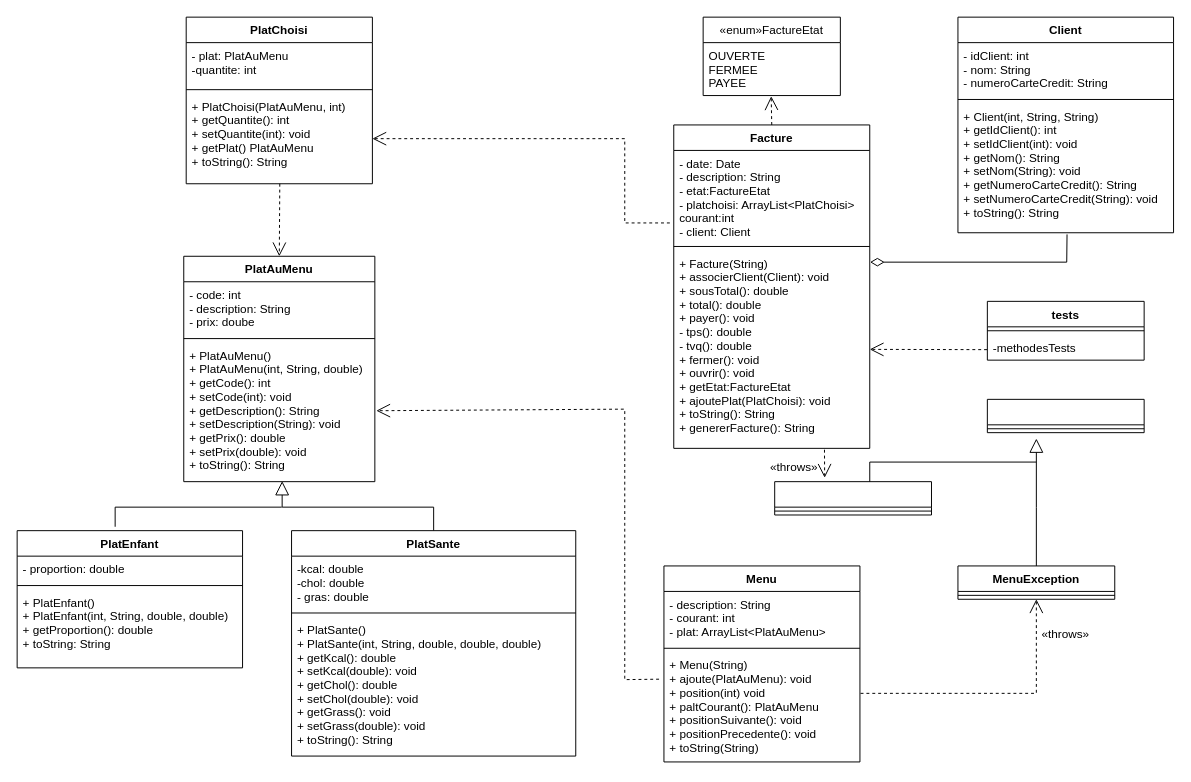
This 1191x782 diagram has some shape labels left out. The shapes that lost their labels are listed below. From the top down, each one's centre as x and y in pixels, then its label:
At (x=1065, y=415): "java.lang.Exception".
At (x=852, y=498): "FactureException".
